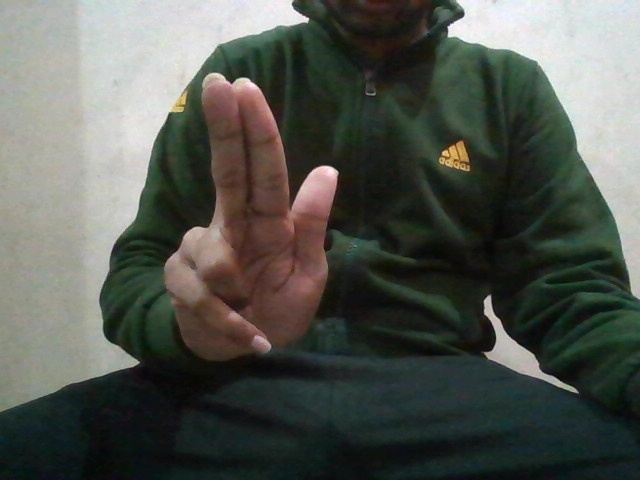K: (171, 74, 340, 372)
